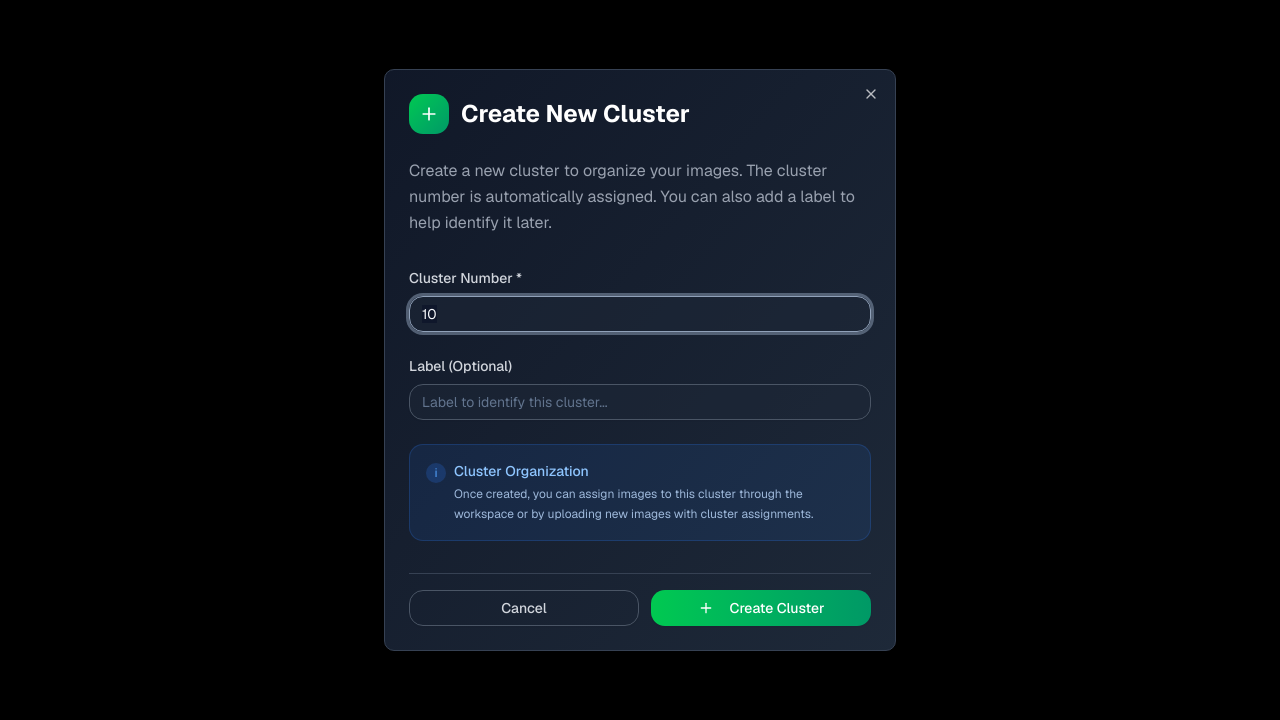
Test: CreateClusterDialog - fuzzy search › clear button resets search and label when visible
In the field labelled "Label (Optional)": x=640, y=402 [409,384,871,420], type "Lab"
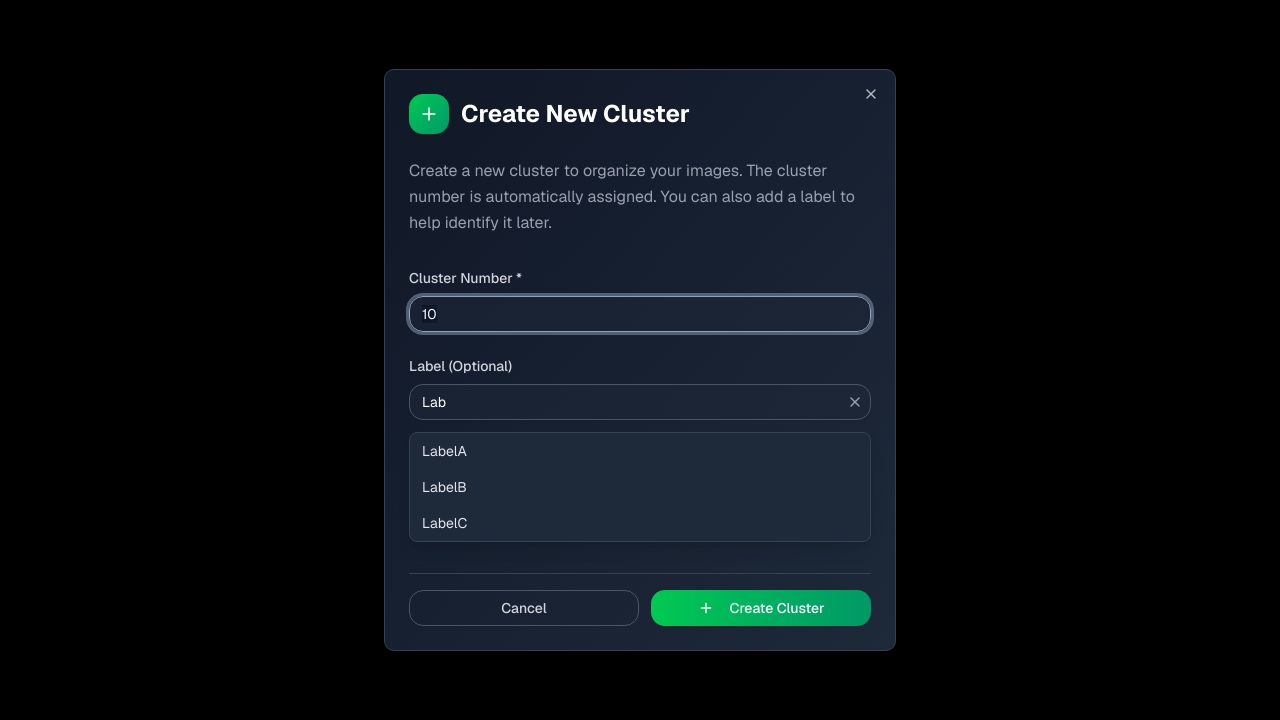
Click the 2nd button: x=855, y=402 [843,390,867,414]
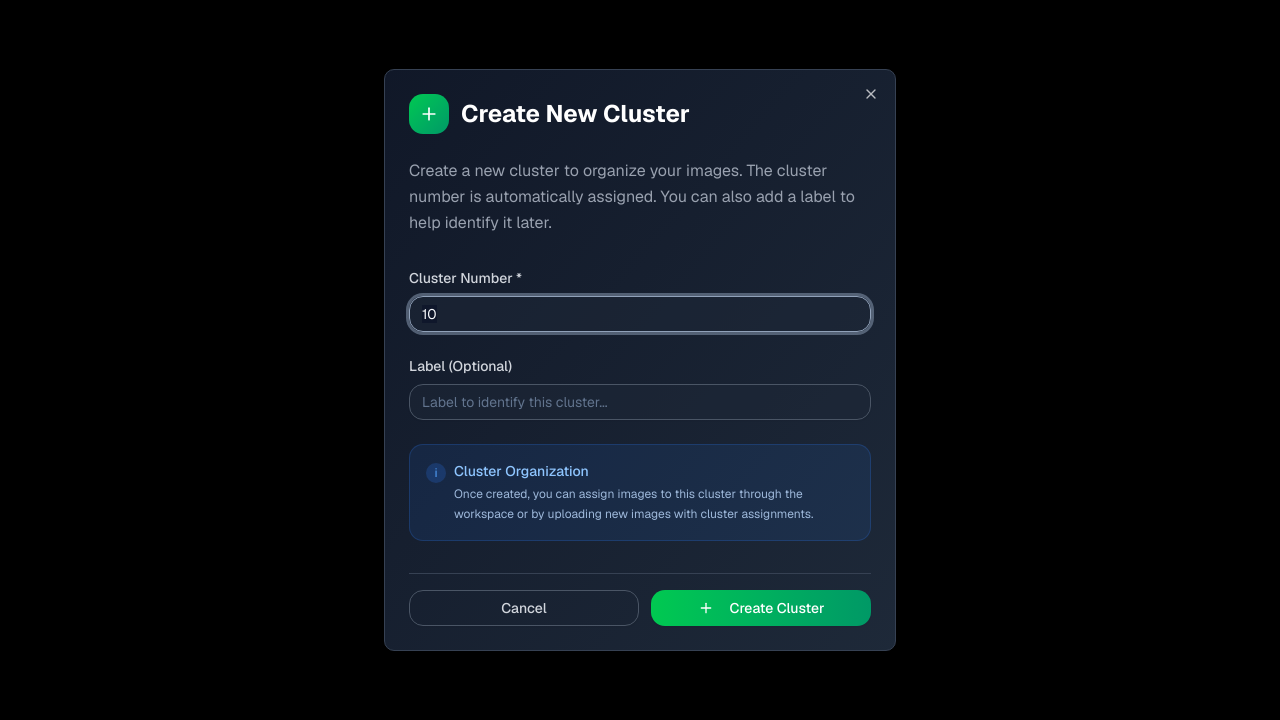
Expected: the field labelled "Label (Optional)" is empty, [409,384,871,420]
Expected: the text "LabelA" is gone
Expected: the text "LabelB" is gone
